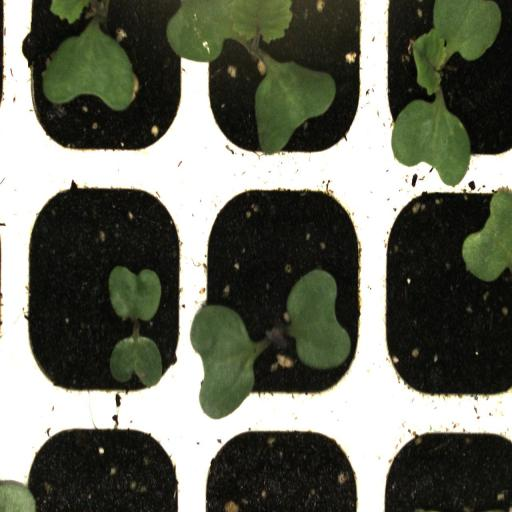seedling: (192, 172, 372, 417), (14, 170, 188, 406), (194, 0, 374, 170), (14, 1, 194, 168), (373, 1, 512, 172)
